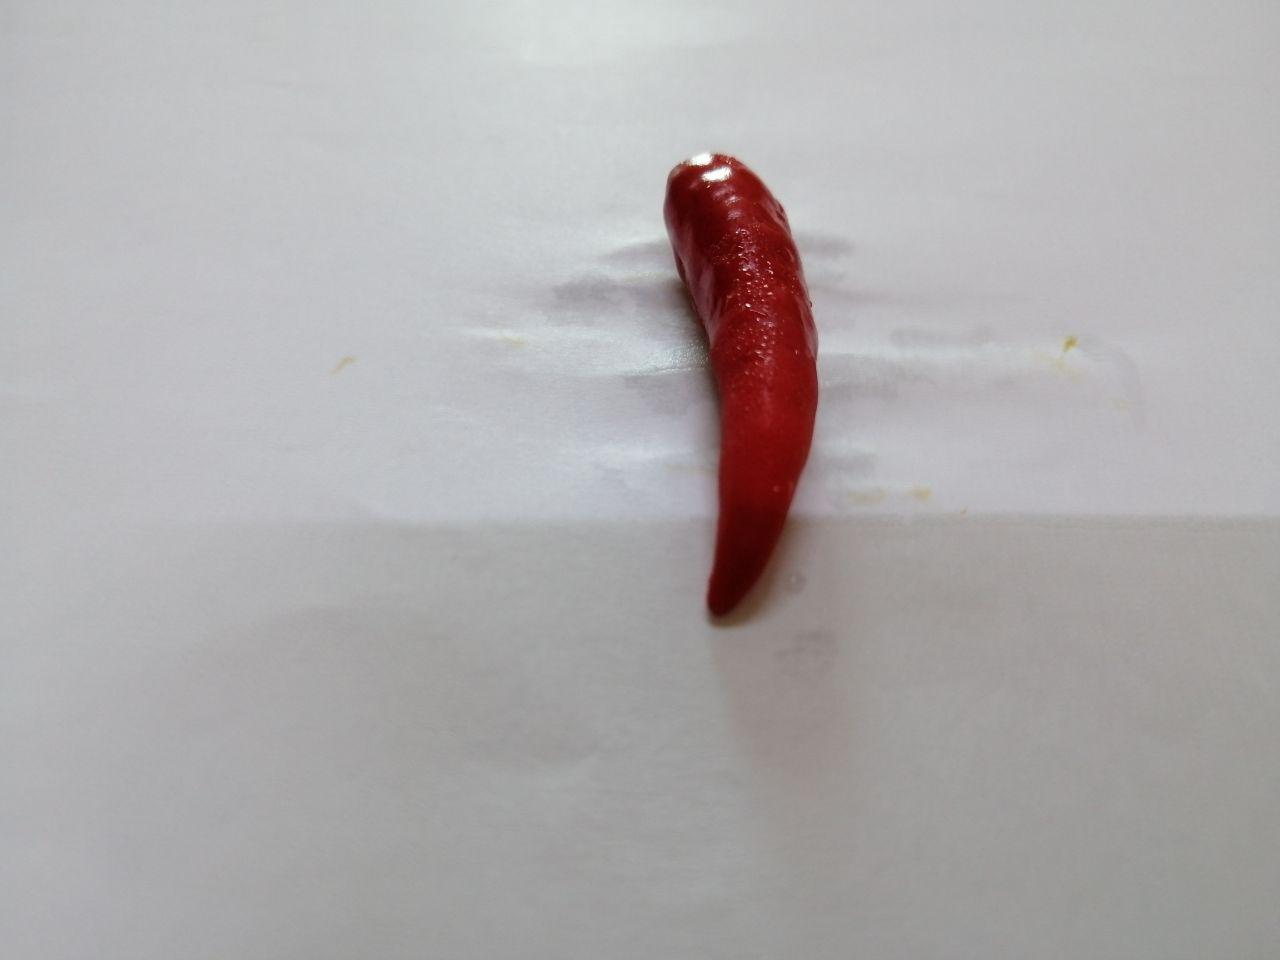lada merah: (625, 133, 849, 634)
